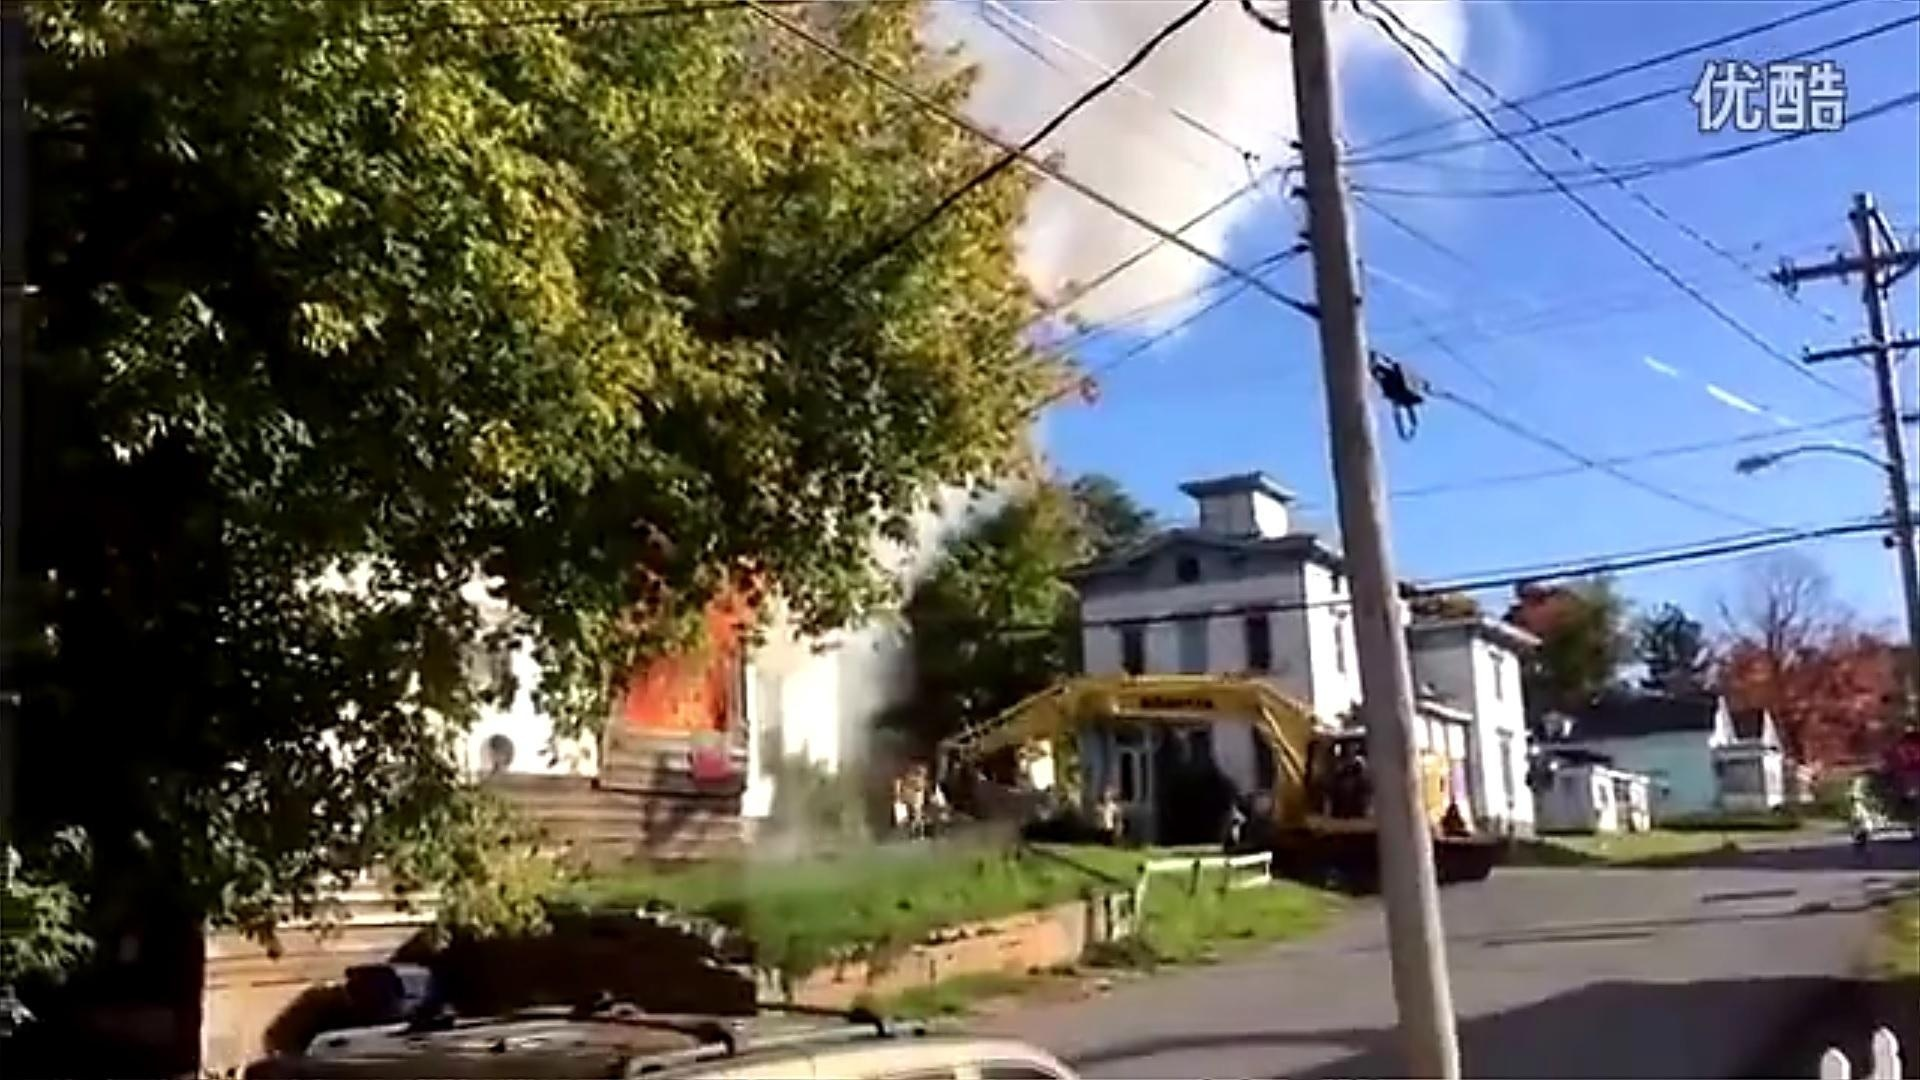fire: (622, 568, 757, 741)
